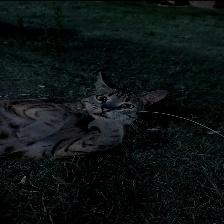kedo: (0, 73, 169, 156)
